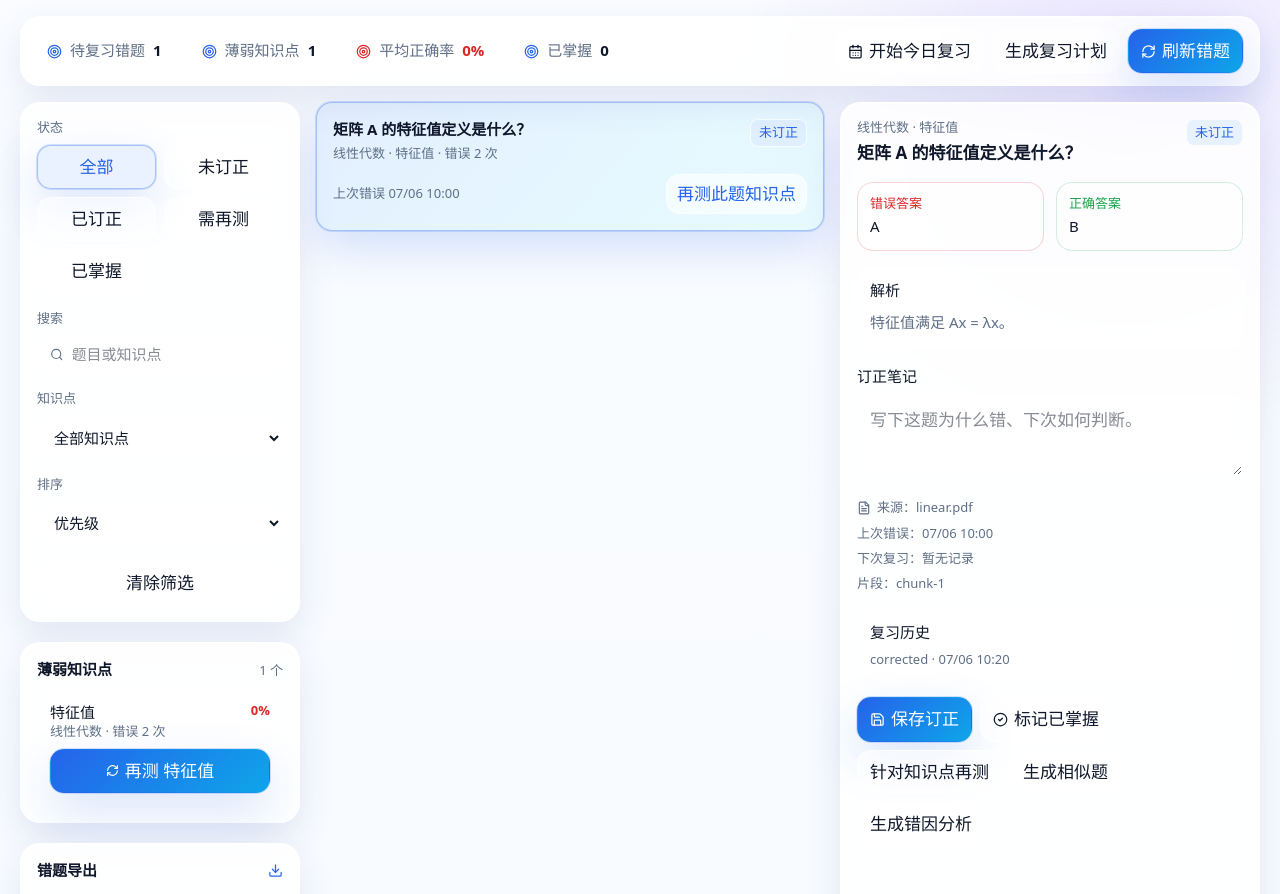
Test case: ReviewWorkbench › generates an explanation for the selected mistake
Click the button "生成错因分析". click: (921, 825)
box: [857, 802, 985, 847]
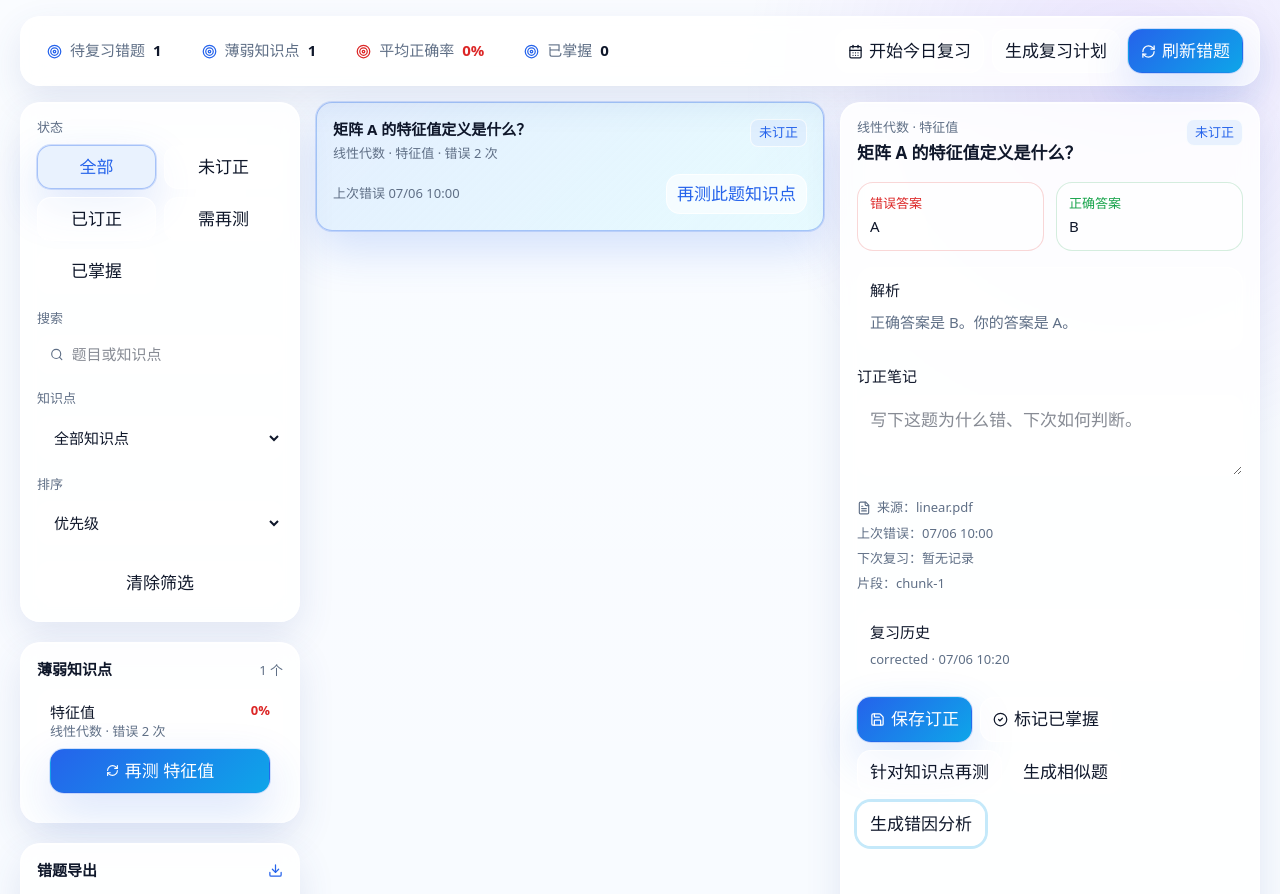
Check: the text "正确答案是 B。你的答案是 A。" is shown, box [870, 312, 1077, 332]
